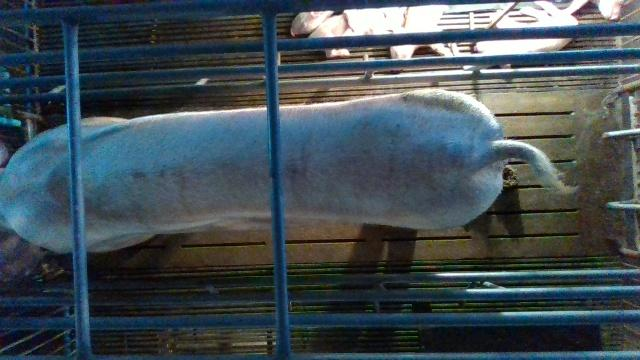piglet: (477, 0, 579, 53), (307, 5, 410, 57), (390, 5, 461, 58)
sow-stand-feed: (2, 86, 570, 258)
